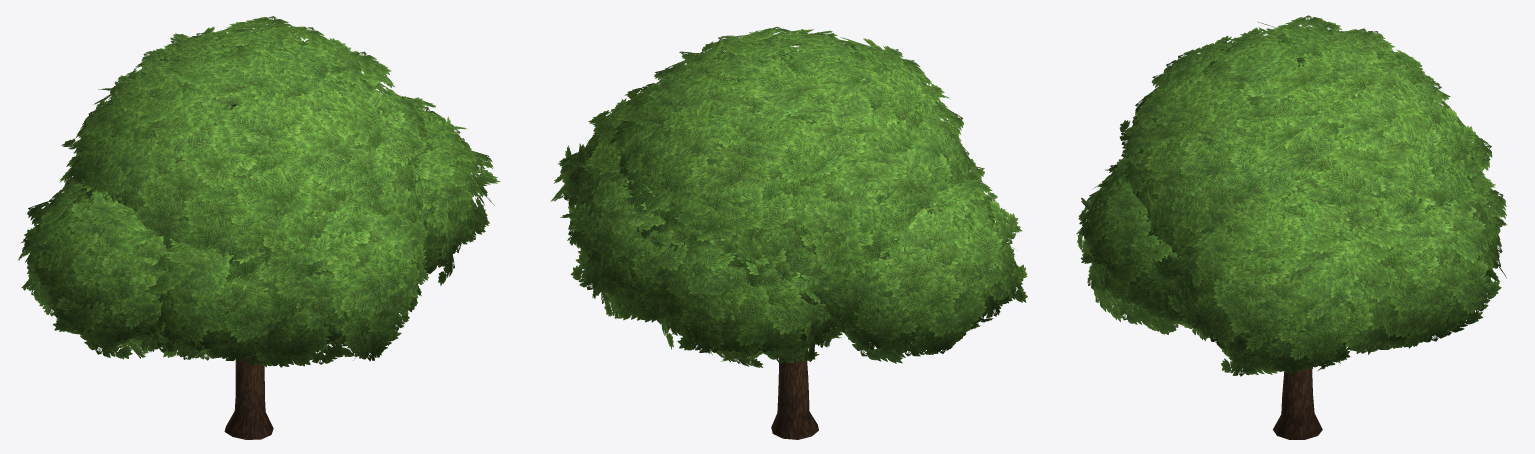
The model's file is broadleaf_b.glb.
3 views of the same model, side by side, from view 1: azimuth 30°, elevation 25°; view 2: azimuth 150°, elevation 25°; view 3: azimuth 270°, elevation 25° (orthographic).
Visible parts, largest first — view 1: leaves, wood; view 2: leaves, wood; view 3: leaves, wood.
Boxes of the visible parts, x1=… form: leaves: x1=17, y1=16, x2=500, y2=367; wood: x1=224, y1=357, x2=273, y2=439; leaves: x1=551, y1=26, x2=1027, y2=367; wood: x1=771, y1=350, x2=818, y2=439; leaves: x1=1076, y1=15, x2=1506, y2=376; wood: x1=1273, y1=366, x2=1322, y2=439.
Bounding box in the file's own units: 11.49 × 9.41 × 9.91.
2 materials, 2 textured.
